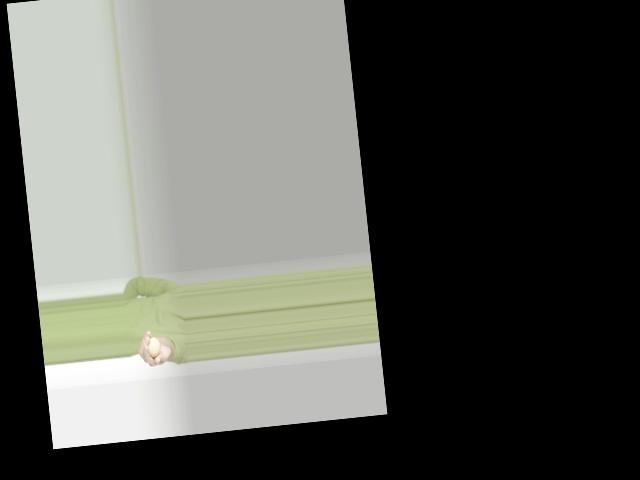egg: (146, 335, 160, 357)
